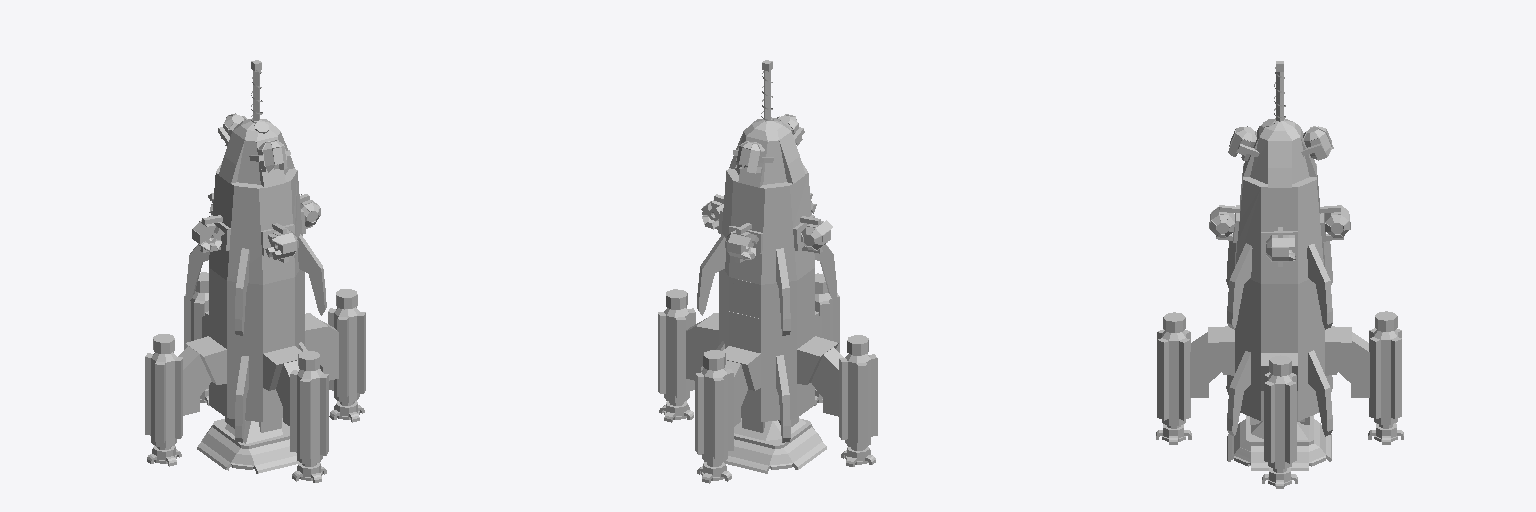
Rendered from Rocket7Tier.obj.
3 views of the same model, side by side, from view 1: azimuth 30°, elevation 25°; view 2: azimuth 150°, elevation 25°; view 3: azimuth 270°, elevation 25° (orthographic).
Visible parts, largest first — view 1: Body_Rocket, Nozzle, RocketEngine, RocketEngine003, RocketEngine001, Rocket_stabilizer2, CorrectedWind005, RocketEngine002, CorrectedWind008, CorrectedWind4, Cylinder005, Rocket_stabilizer1 (+4 smaller); view 2: Body_Rocket, Nozzle, RocketEngine002, RocketEngine003, RocketEngine001, Rocket_stabilizer2, CorrectedWind006, RocketEngine, GlassWindow, CorrectedWind3, CorrectedWind007, Cylinder001 (+6 smaller); view 3: Body_Rocket, RocketEngine, RocketEngine001, Nozzle, RocketEngine002, Rocket_stabilizer3, Rocket_stabilizer4, CorrectedWind006, CorrectedWind2, CorrectedWind005, CorrectedWind1, Cylinder001 (+4 smaller).
Part boxes in pixels (x1,y1,x2,y2): Body_Rocket: (185, 118, 327, 432); Nozzle: (197, 418, 299, 473); RocketEngine: (290, 369, 328, 464); RocketEngine003: (145, 352, 182, 447); RocketEngine001: (328, 307, 365, 402); Rocket_stabilizer2: (178, 346, 211, 415); CorrectedWind005: (297, 234, 326, 315); RocketEngine002: (184, 291, 208, 349); CorrectedWind008: (235, 248, 249, 335); CorrectedWind4: (235, 356, 248, 442); Cylinder005: (265, 223, 298, 262); Rocket_stabilizer1: (317, 318, 338, 380); Body_Rocket: (696, 119, 838, 432); Nozzle: (724, 418, 826, 473); RocketEngine002: (695, 369, 733, 463); RocketEngine003: (839, 354, 877, 448); RocketEngine001: (658, 308, 695, 402); Rocket_stabilizer2: (811, 347, 843, 416); CorrectedWind006: (697, 234, 725, 315); RocketEngine: (815, 293, 839, 352); GlassWindow: (729, 280, 760, 316); CorrectedWind3: (776, 355, 790, 442); CorrectedWind007: (776, 248, 790, 335); Cylinder001: (725, 223, 758, 262); Body_Rocket: (1208, 119, 1351, 424); RocketEngine: (1157, 329, 1190, 425); RocketEngine001: (1264, 372, 1296, 468); Nozzle: (1227, 415, 1331, 470); RocketEngine002: (1369, 328, 1401, 424); Rocket_stabilizer3: (1338, 332, 1369, 397); Rocket_stabilizer4: (1190, 332, 1221, 397); CorrectedWind006: (1307, 244, 1332, 329); CorrectedWind2: (1308, 350, 1332, 436); CorrectedWind005: (1227, 243, 1252, 329); CorrectedWind1: (1227, 351, 1250, 435); Cylinder001: (1320, 205, 1350, 240).
Size of the model in its own units: 5.93 by 10.32 by 5.98.